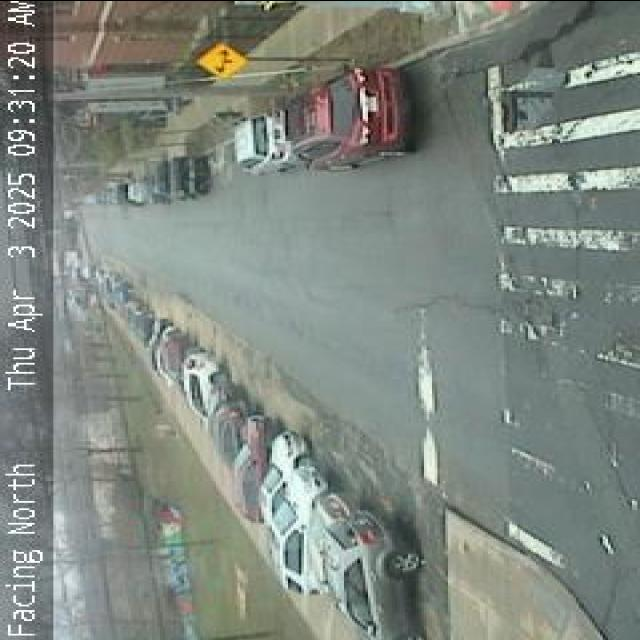open parking: (132, 105, 322, 234)
